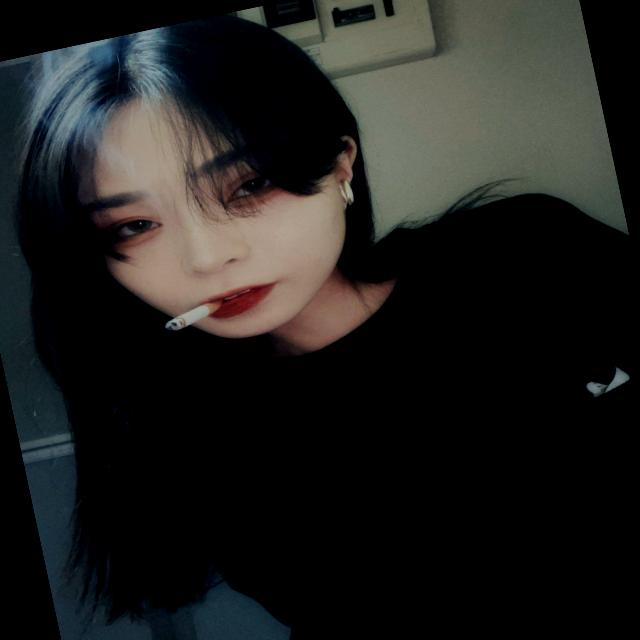smoke: (144, 282, 252, 347)
